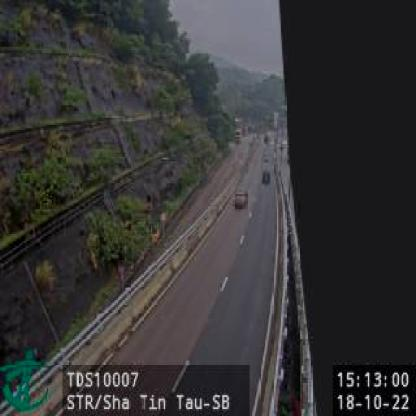Car: (233, 187, 249, 209)
